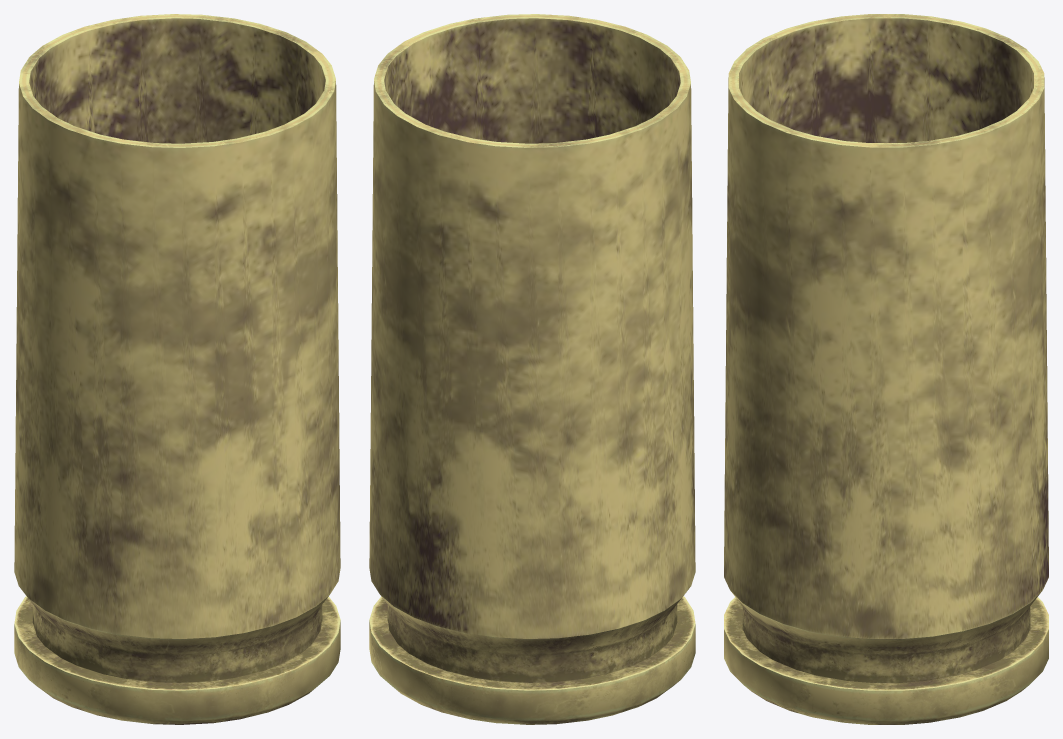
The model's file is 556x45_casing.dae.
The picture shows the model from 3 angles, left to right: view 1: azimuth 30°, elevation 25°; view 2: azimuth 150°, elevation 25°; view 3: azimuth 270°, elevation 25°; orthographic projection.
Visible parts, largest first — view 1: casing_low; view 2: casing_low; view 3: casing_low.
Part boxes in pixels (x1,y1,x2,y2): casing_low: (14, 14, 340, 724); casing_low: (369, 14, 695, 724); casing_low: (724, 14, 1048, 724).
Bounding box in the file's own units: 0.00655 × 0.00655 × 0.0129.
1 material, 1 textured.
